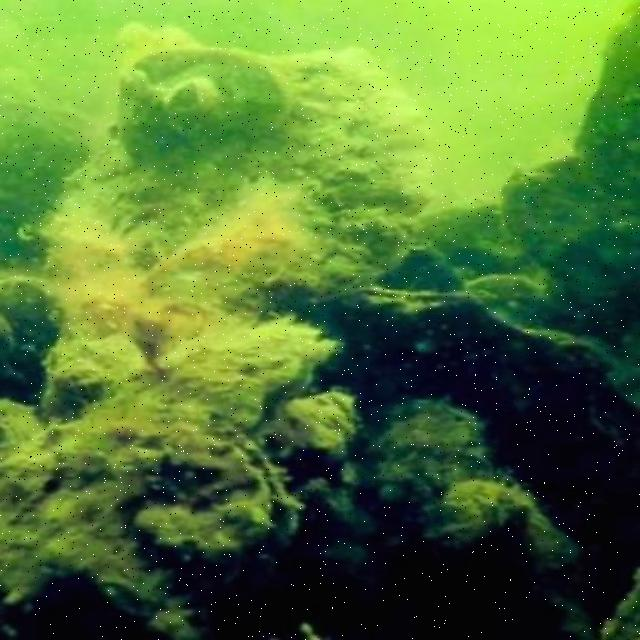Oyster-Closed: (87, 404, 299, 567), (304, 287, 521, 353), (170, 333, 314, 427), (144, 52, 286, 133), (114, 69, 163, 167)
